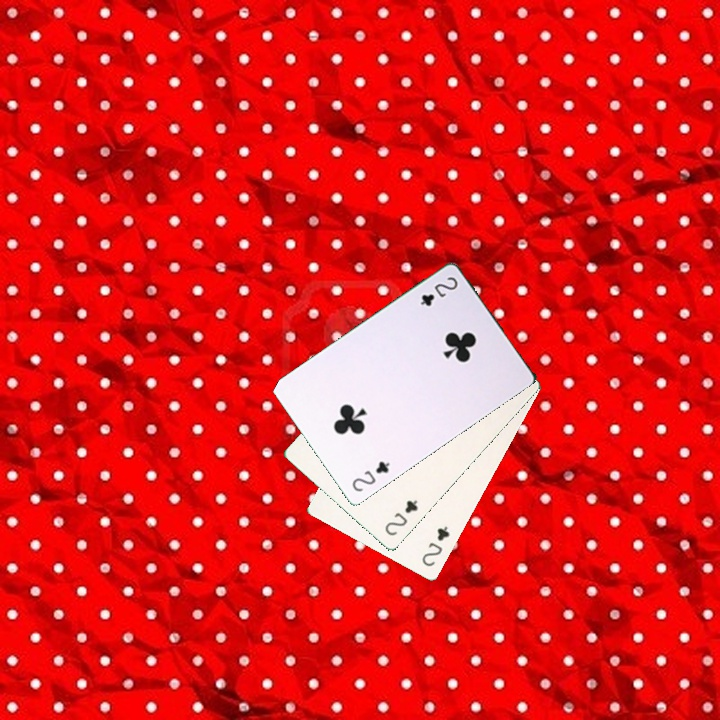2c: (380, 496, 420, 538), (416, 272, 461, 309), (348, 457, 392, 494), (418, 522, 452, 569)
